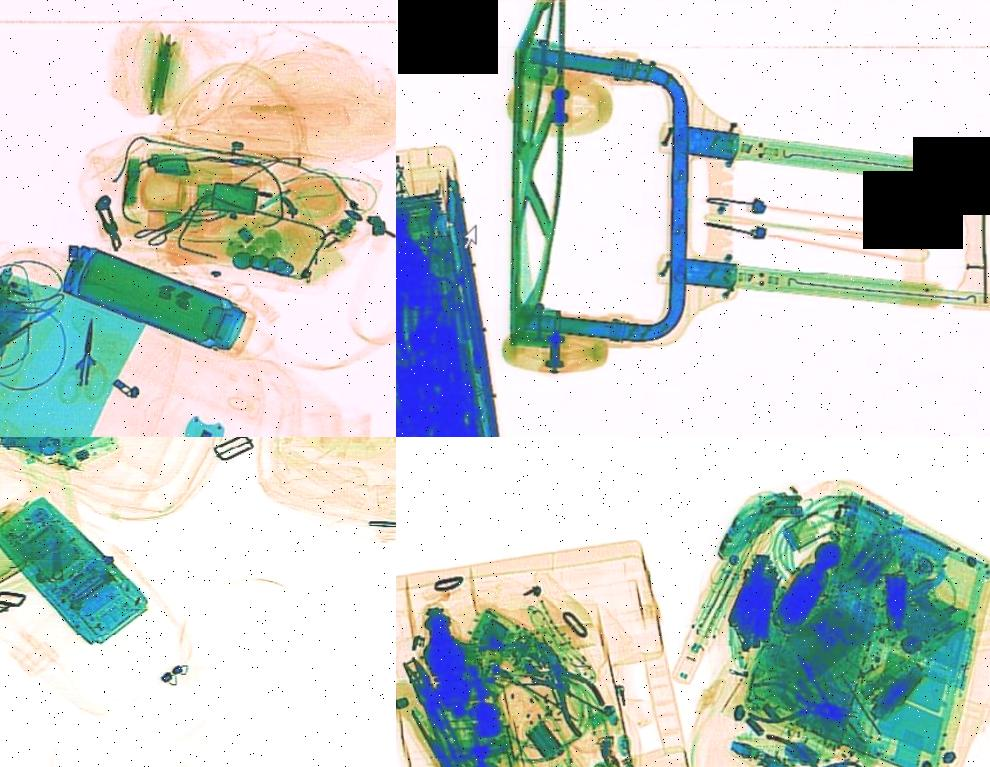Knife: (76, 315, 104, 386)
Pliers: (516, 623, 617, 738), (746, 675, 862, 738), (716, 725, 884, 767), (740, 727, 856, 767)
